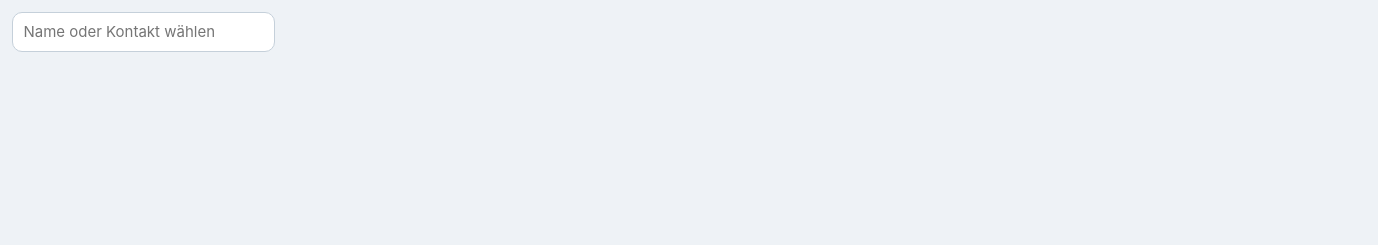
Test: Personenfeld mit Kontaktvorschlägen › schlägt angeheftete Kontakte zuerst vor
This screenshot has width=1378, height=245.
Focus the dropdown at (144, 32), box 12,12 -> 275,52
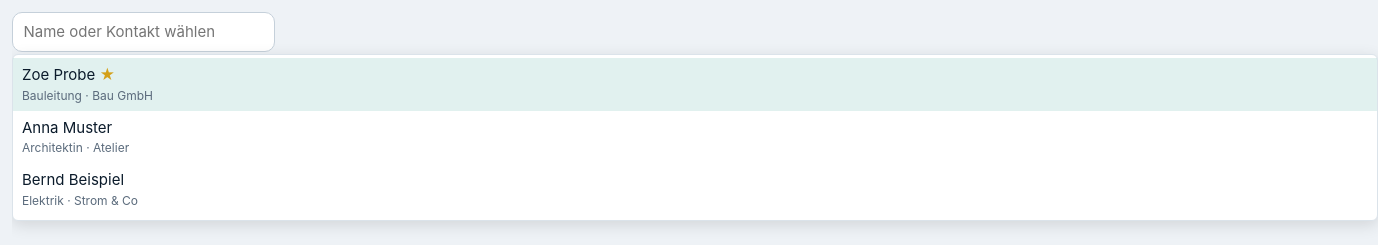
Expected: the option "Zoe Probe ★ Bauleitung · Bau GmbH" is shown, 13,58 -> 1377,111
